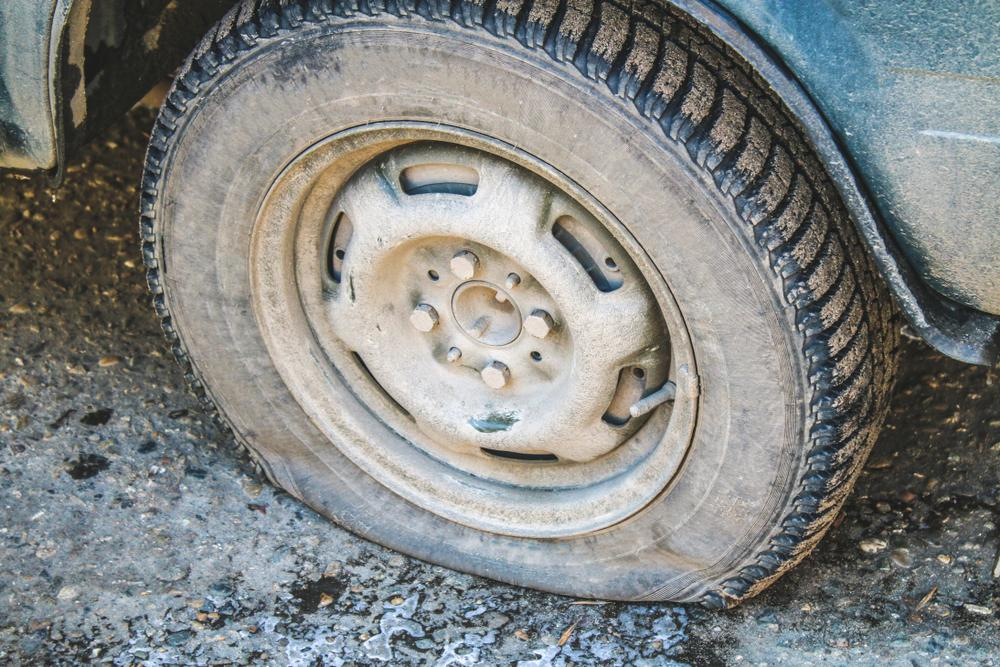tire flat: (140, 0, 906, 610)
